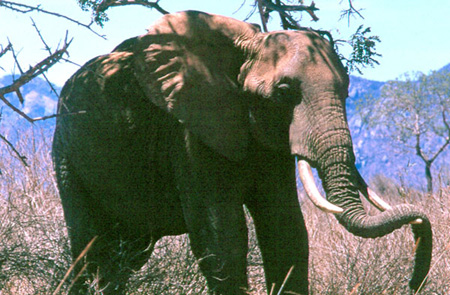elephant: (39, 7, 445, 295)
